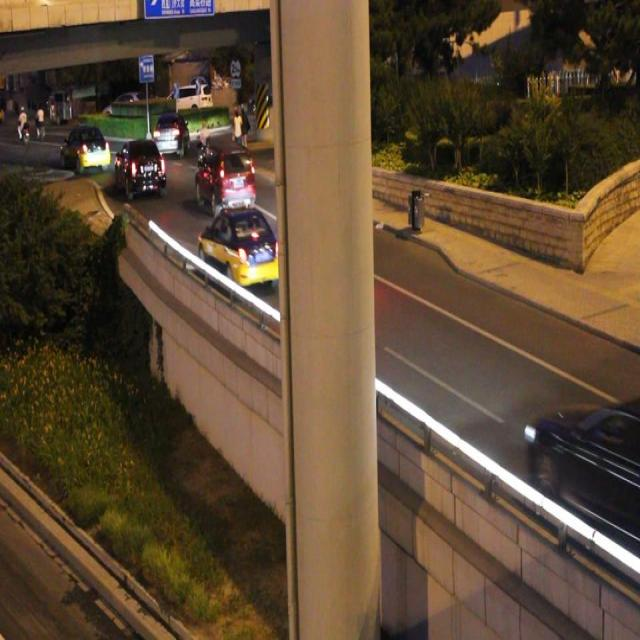car: (522, 395, 640, 569), (197, 199, 283, 290), (280, 179, 361, 260), (194, 143, 255, 211)
